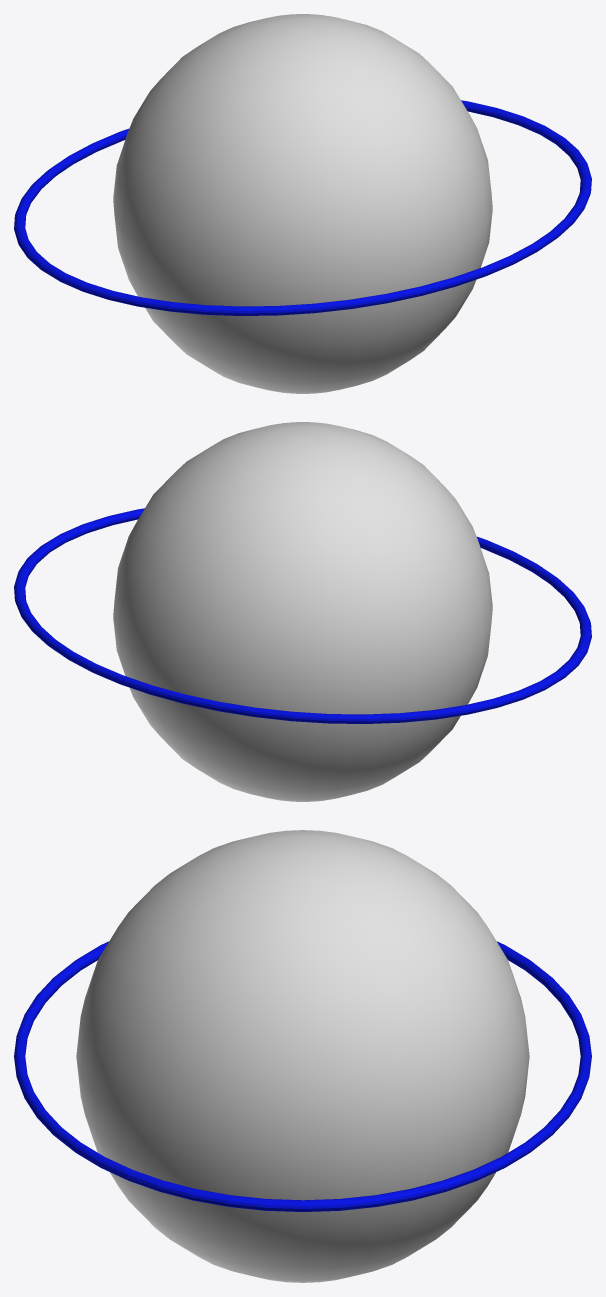
File: Particle.fbx
3 renders of one model, top to bottom at view 1: azimuth 30°, elevation 25°; view 2: azimuth 150°, elevation 25°; view 3: azimuth 270°, elevation 25°, orthographic. The views are drawn at different scales.
Visible parts, largest first — view 1: Sphere; view 2: Sphere; view 3: Sphere.
Boxes of the visible parts, x1,y1,x2,y2 form: Sphere: [14, 14, 591, 393]; Sphere: [14, 422, 591, 801]; Sphere: [14, 830, 591, 1282].
Bounding box in the file's own units: 319 × 200 × 255.
